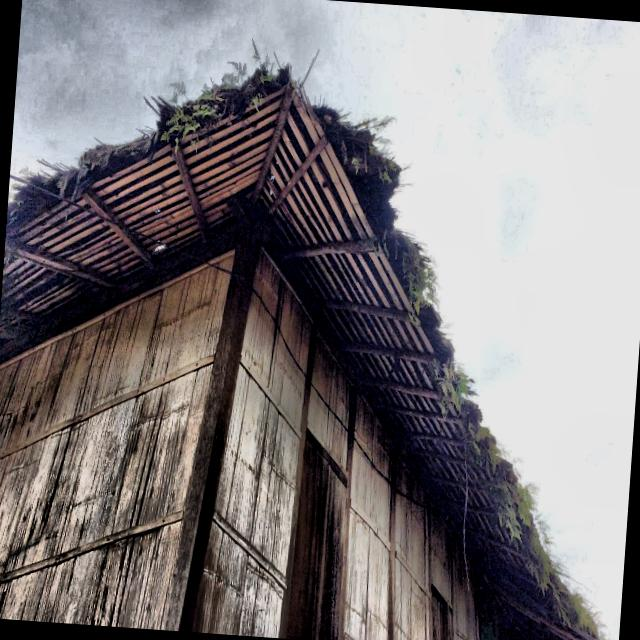roof: (0, 67, 596, 640)
wall: (193, 247, 480, 640), (0, 256, 231, 630)
window: (286, 436, 346, 640), (432, 592, 453, 640)
